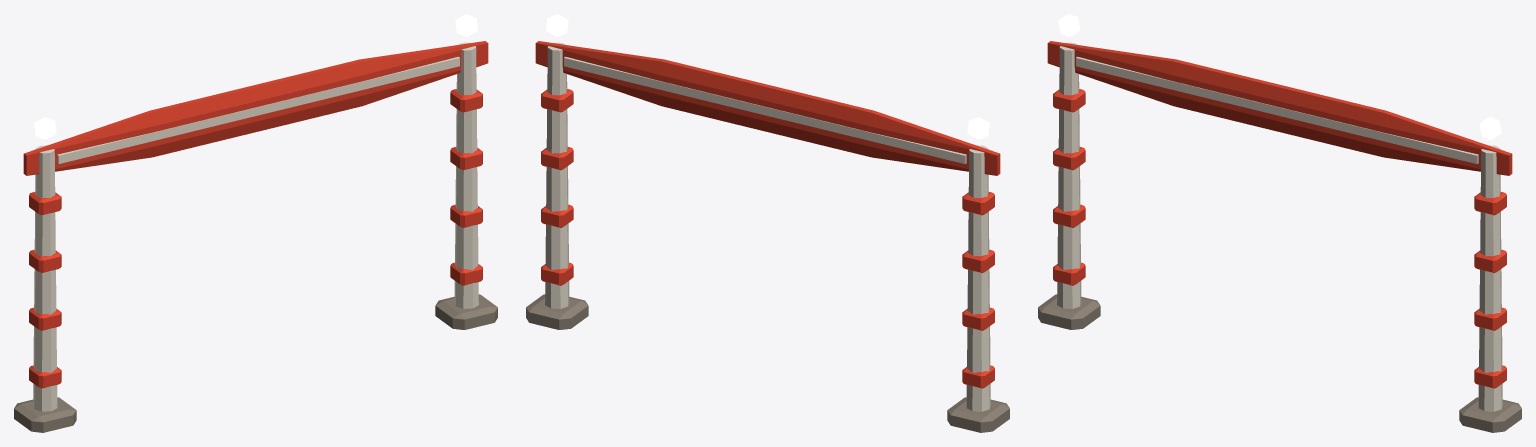
The model's file is circuit_gate.glb.
3 views of the same model, side by side, from view 1: azimuth 30°, elevation 25°; view 2: azimuth 150°, elevation 25°; view 3: azimuth 330°, elevation 25° (orthographic).
Visible parts, largest first — view 1: circuit_gate; view 2: circuit_gate; view 3: circuit_gate.
Boxes of the visible parts, x1,y1,x2,y2 form: circuit_gate: (14,14,497,432); circuit_gate: (526,14,1009,432); circuit_gate: (1038,14,1521,432).
Bounding box in the file's own units: 9.3 × 5.82 × 0.9.
